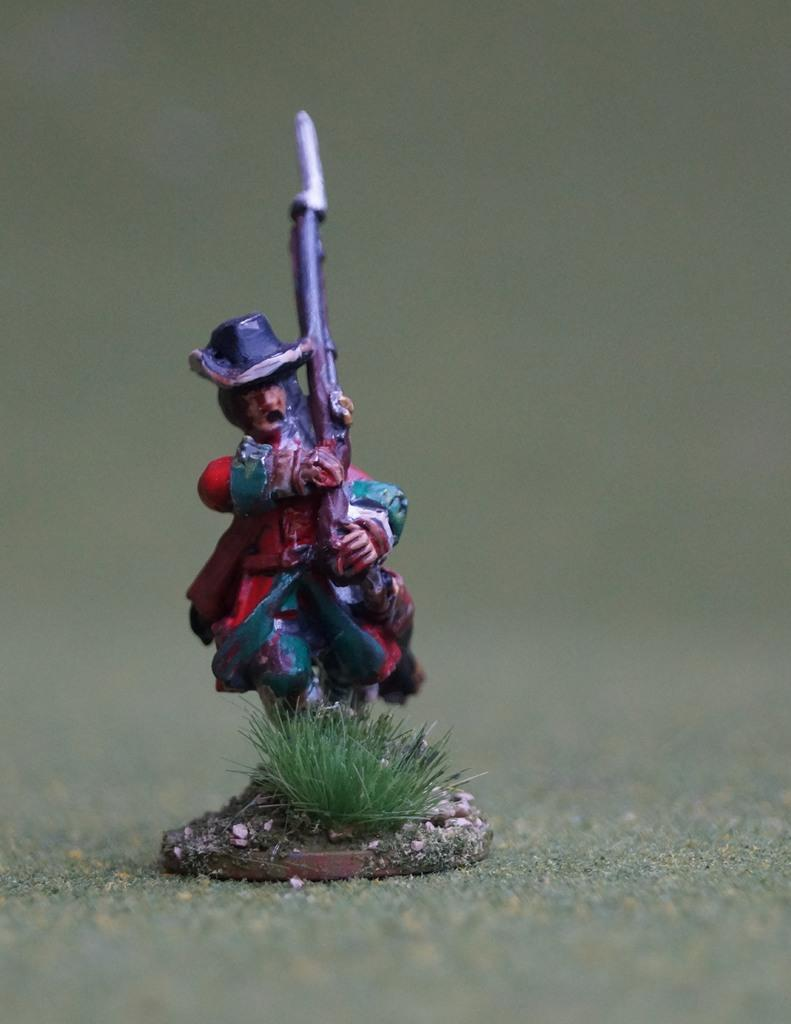Hat: (189, 310, 314, 388)
